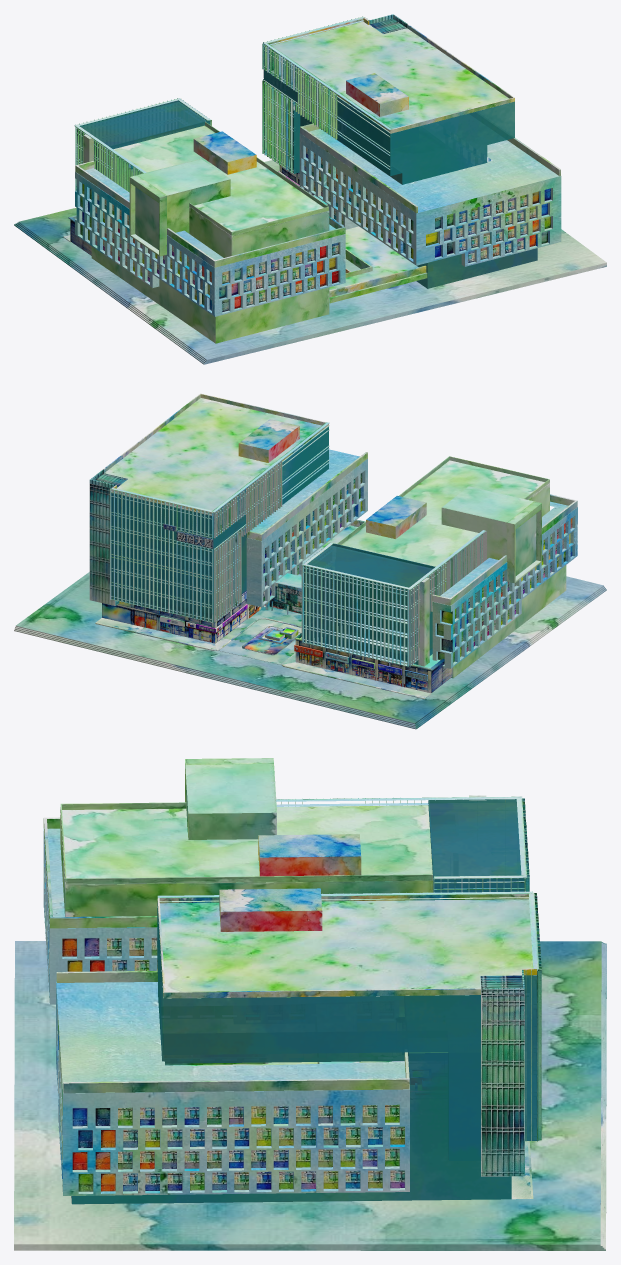
The model's file is shunadasha2.gltf.
The picture shows the model from 3 angles, top to bottom: view 1: azimuth 30°, elevation 25°; view 2: azimuth 150°, elevation 25°; view 3: azimuth 270°, elevation 25°; orthographic projection. The views are drawn at different scales.
Visible parts, largest first — view 1: zzjihe8xf:jiejing7gc:zshuma1:wgg9ctest7zze:wgg9ctest7z:wgg9c, polySurface3, zzjihe8xf:zzjihe8xf:ding, zzjihe8xf:zzjihe8xf:pCube2, zzjihe8xf:zzjihe8xf:polySurface232, tiao, polySurface2, zzjihe8xf:jiejing7gc:zshuma1:wgg9ctest7zze:polySurface306, zzjihe8xf:jiejing7gc:zshuma1:wgg9ctest7zze:polySurface180, zzjihe8xf:jiejing7gc:zshuma1:wgg9ctest7zze:polySurface340; view 2: tiao, zzjihe8xf:zzjihe8xf:polySurface232, zzjihe8xf:zzjihe8xf:pCube2, zzjihe8xf:jiejing7gc:zshuma1:wgg9ctest7zze:wgg9ctest7z:wgg9c, polySurface3, zzjihe8xf:zzjihe8xf:ding, zzjihe8xf:jiejing7gc:zshuma1:wgg9ctest7zze:polySurface340, polySurface2, diban12, zzjihe8xf:jiejing7gc:zshuma1:wgg9ctest7zze:polySurface180, shuichi; view 3: zzjihe8xf:zzjihe8xf:pCube2, zzjihe8xf:jiejing7gc:zshuma1:wgg9ctest7zze:wgg9ctest7z:wgg9c, zzjihe8xf:zzjihe8xf:ding, polySurface3, zzjihe8xf:zzjihe8xf:polySurface232, polySurface2, zzjihe8xf:jiejing7gc:zshuma1:wgg9ctest7zze:polySurface306, zzjihe8xf:jiejing7gc:zshuma1:wgg9ctest7zze:polySurface180, tiao, diban12.
Boxes of the visible parts, x1,y1,x2,y2 form: zzjihe8xf:jiejing7gc:zshuma1:wgg9ctest7zze:wgg9ctest7z:wgg9c: (75,128,561,316); polySurface3: (91,121,329,343); zzjihe8xf:zzjihe8xf:ding: (75,21,560,303); zzjihe8xf:zzjihe8xf:pCube2: (14,160,606,364); zzjihe8xf:zzjihe8xf:polySurface232: (77,47,514,184); tiao: (74,16,392,192); polySurface2: (193,18,514,297); zzjihe8xf:jiejing7gc:zshuma1:wgg9ctest7zze:polySurface306: (300,115,537,288); zzjihe8xf:jiejing7gc:zshuma1:wgg9ctest7zze:polySurface180: (263,14,407,204); zzjihe8xf:jiejing7gc:zshuma1:wgg9ctest7zze:polySurface340: (68,165,299,255); tiao: (109,422,486,667); zzjihe8xf:zzjihe8xf:polySurface232: (111,427,437,664); zzjihe8xf:zzjihe8xf:pCube2: (14,572,606,729); zzjihe8xf:jiejing7gc:zshuma1:wgg9ctest7zze:wgg9ctest7z:wgg9c: (246,449,577,668); polySurface3: (337,456,566,678); zzjihe8xf:zzjihe8xf:ding: (104,398,577,666); zzjihe8xf:jiejing7gc:zshuma1:wgg9ctest7zze:polySurface340: (102,590,451,693); polySurface2: (103,393,426,538); diban12: (95,605,431,699); zzjihe8xf:jiejing7gc:zshuma1:wgg9ctest7zze:polySurface180: (89,469,301,614); shuichi: (242,626,300,655); zzjihe8xf:zzjihe8xf:pCube2: (14,941,606,1250); zzjihe8xf:jiejing7gc:zshuma1:wgg9ctest7zze:wgg9ctest7z:wgg9c: (43,828,409,1195); zzjihe8xf:zzjihe8xf:ding: (43,795,536,1093); polySurface3: (60,758,433,916); zzjihe8xf:zzjihe8xf:polySurface232: (157,799,538,1160); polySurface2: (157,834,536,998); zzjihe8xf:jiejing7gc:zshuma1:wgg9ctest7zze:polySurface306: (71,1052,511,1204); zzjihe8xf:jiejing7gc:zshuma1:wgg9ctest7zze:polySurface180: (319,969,524,1176); tiao: (157,796,541,1141); diban12: (359,1061,533,1199).
Bounding box in the file's own units: 10.77 × 3.92 × 8.82.
Materials: 17 (15 with a texture image).
